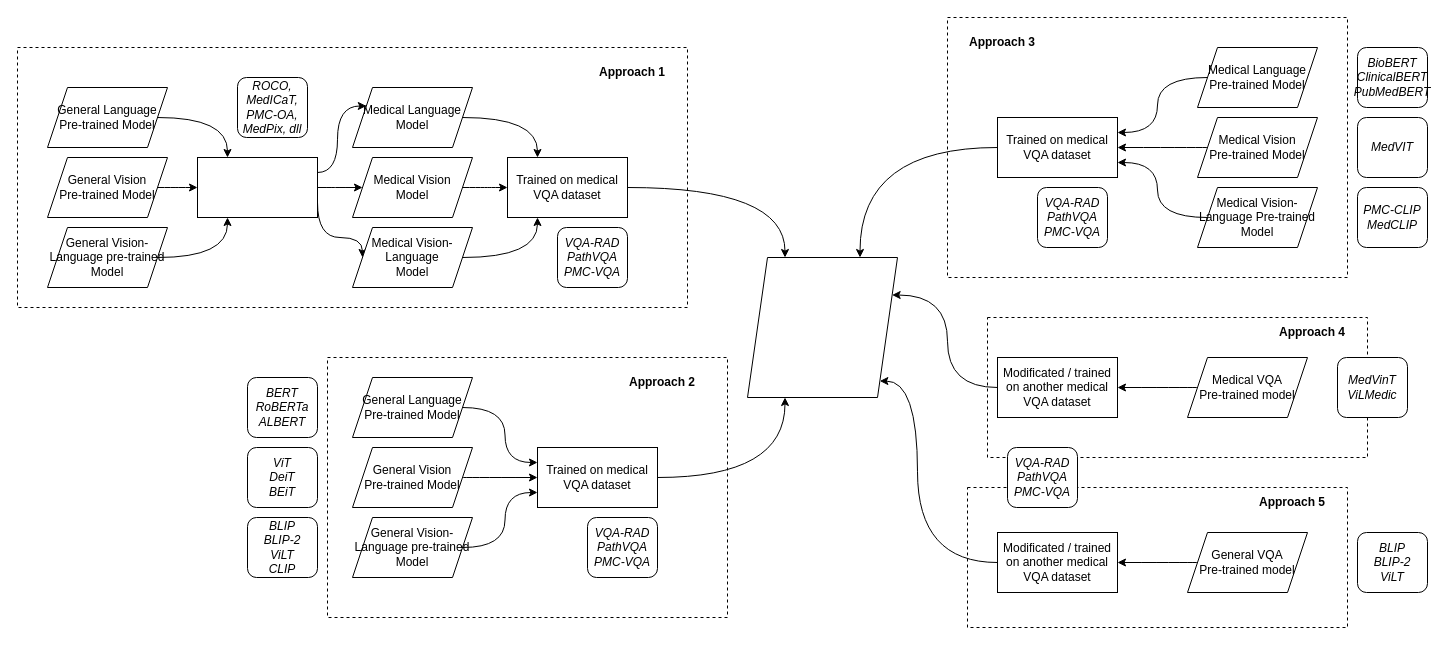
Some shapes in this 1448 by 645 pixel diagram are drawn without their labels. Here are the shapes that lost their labels. From the top down, the centre of each, then its label:
At point (257, 187): "Trained on medical dataset".
At point (822, 327): "Medical VQA".
